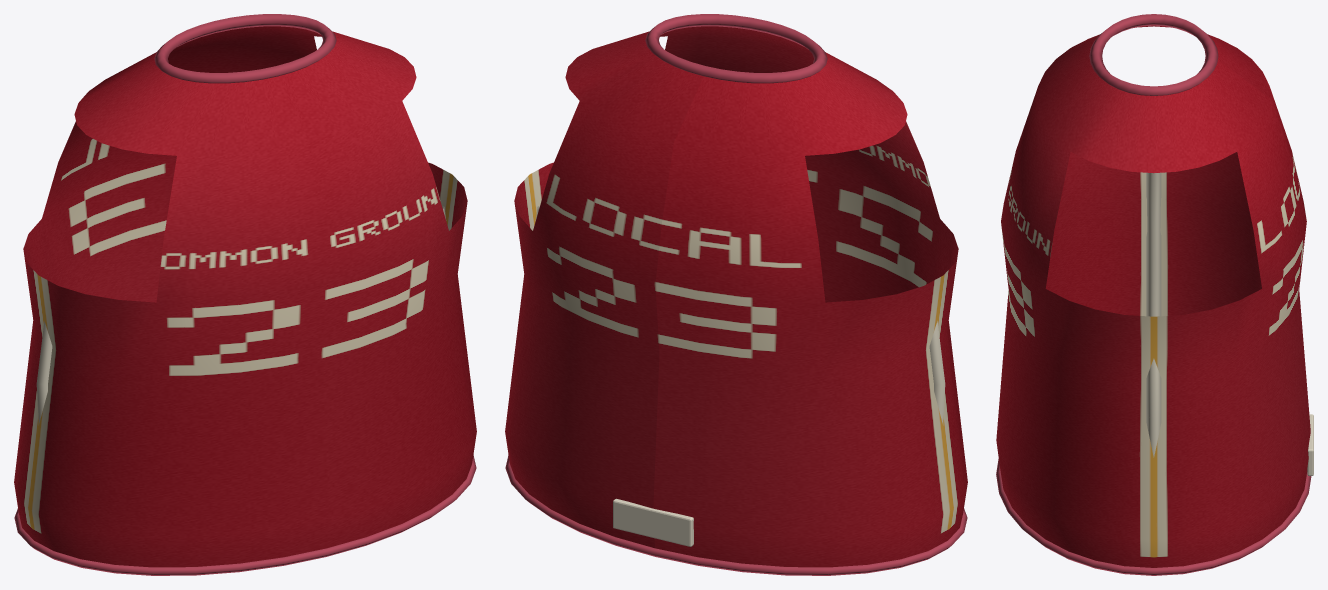
The model's file is CG_TOP_01.fbx.
The picture shows the model from 3 angles, left to right: view 1: azimuth 30°, elevation 25°; view 2: azimuth 150°, elevation 25°; view 3: azimuth 270°, elevation 25°; orthographic projection. The views are drawn at different scales.
Parts seen in each view (by area): view 1: Camiseta_com_caimento.002, BlenderTopo_Gola.001, BlenderTopo_Barra.001, BlenderTopo_Faixa_lateral; view 2: Camiseta_com_caimento.002, BlenderTopo_Gola.001, BlenderTopo_Barra.001, BlenderTopo_Etiqueta, BlenderTopo_Faixa_lateral; view 3: Camiseta_com_caimento.002, BlenderTopo_Gola.001, BlenderTopo_Barra.001, BlenderTopo_Faixa_lateral, BlenderTopo_Faixa_lateral.001.
Boxes of the visible parts, x1,y1,x2,y2 form: Camiseta_com_caimento.002: (14, 26, 476, 567); BlenderTopo_Gola.001: (154, 14, 336, 83); BlenderTopo_Barra.001: (14, 455, 476, 575); BlenderTopo_Faixa_lateral: (36, 321, 52, 425); Camiseta_com_caimento.002: (505, 26, 967, 567); BlenderTopo_Gola.001: (645, 14, 827, 83); BlenderTopo_Barra.001: (505, 455, 967, 575); BlenderTopo_Etiqueta: (613, 498, 693, 546); BlenderTopo_Faixa_lateral: (929, 321, 945, 425); Camiseta_com_caimento.002: (996, 25, 1310, 567); BlenderTopo_Gola.001: (1089, 14, 1218, 95); BlenderTopo_Barra.001: (996, 459, 1311, 575); BlenderTopo_Faixa_lateral: (1146, 172, 1161, 316); BlenderTopo_Faixa_lateral.001: (1146, 358, 1161, 457).
Size of the model in its own units: 87.67 by 88.1 by 59.2.
3 materials, 1 textured.
